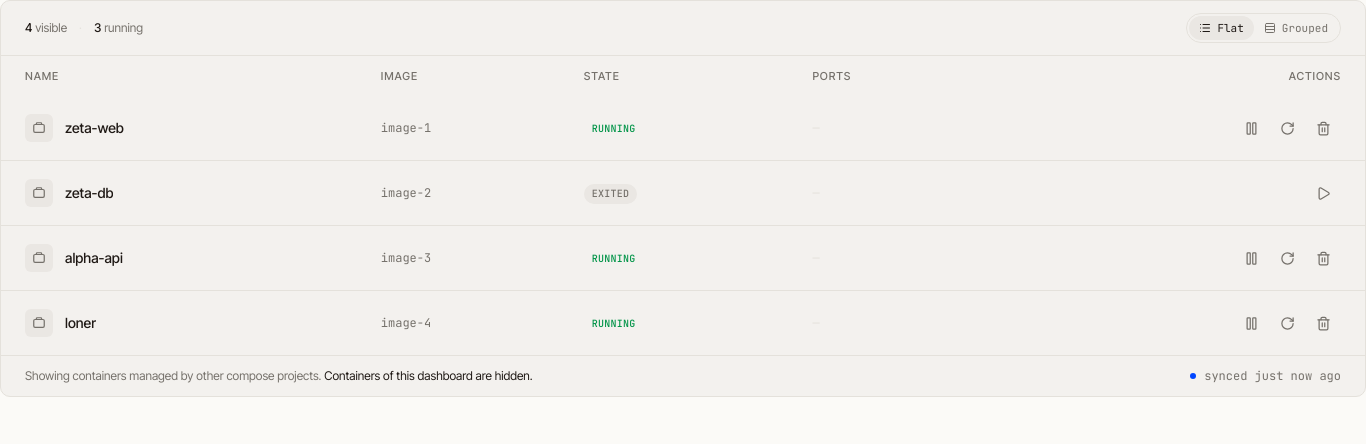
Test case: grouped view › shows running/total for each group
Expected: the text "zeta-web" is shown, 65,118 -> 124,138
Click the button titled "Grouped by compose project" at (1296, 28), box 1254,16 -> 1338,40
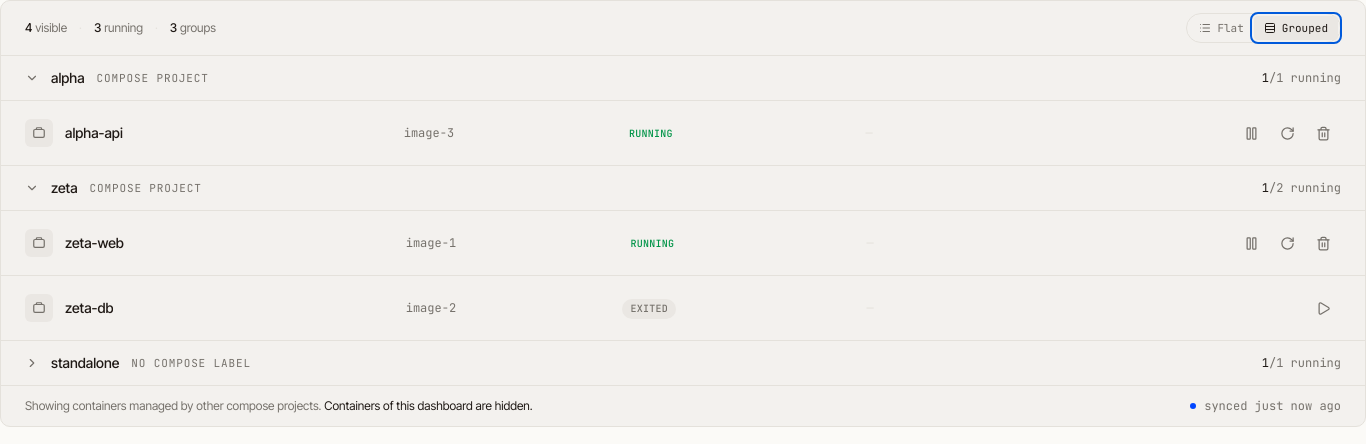
Result: the heading "zeta compose project 1/2 running" is shown at 25,179 -> 1341,196
Result: the heading "alpha compose project 1/1 running" is shown at 25,69 -> 1341,86
Result: the heading "standalone no compose label 1/1 running" is shown at 25,354 -> 1341,371
